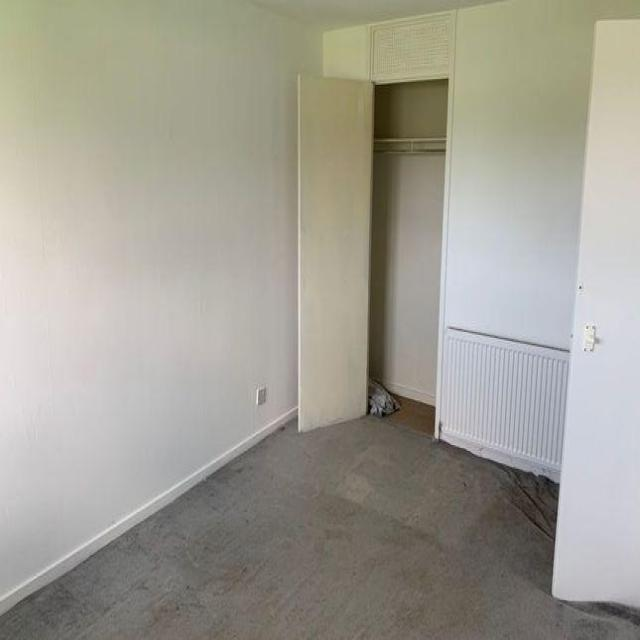Wall: (0, 0, 370, 610), (0, 399, 640, 639), (445, 0, 640, 348), (370, 150, 445, 404), (251, 1, 495, 27), (375, 82, 447, 138)
